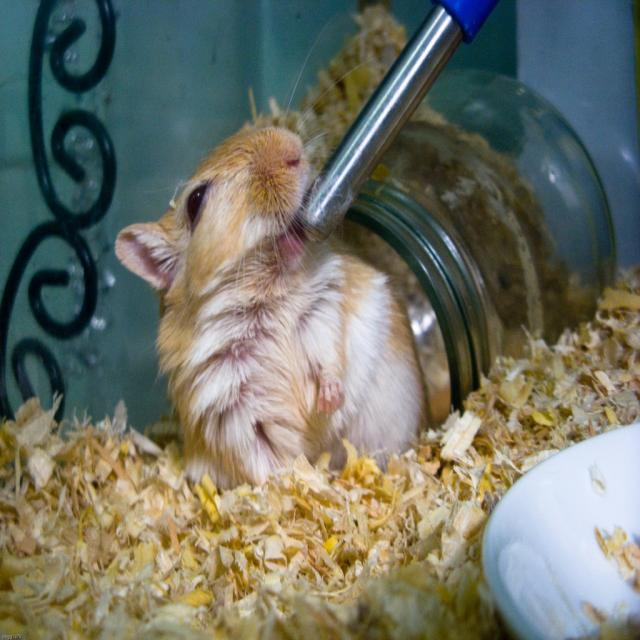rat: (116, 46, 425, 492)
